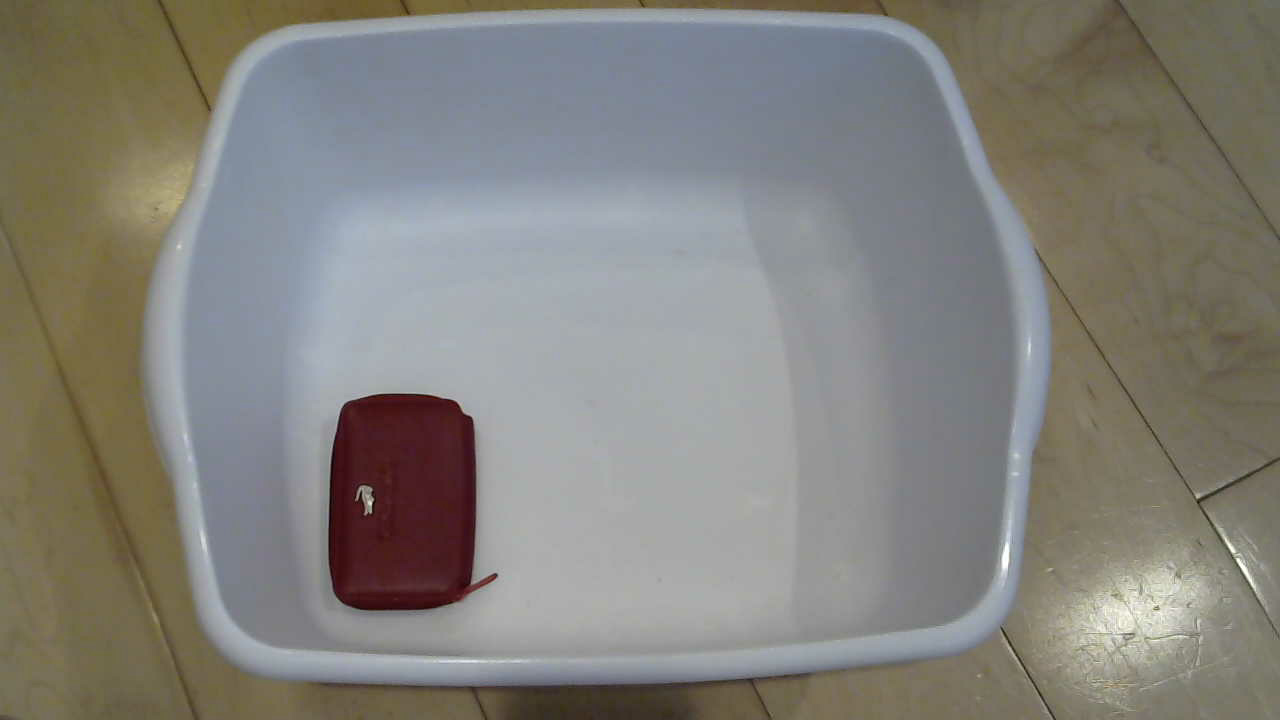wallet: (315, 402, 503, 615)
